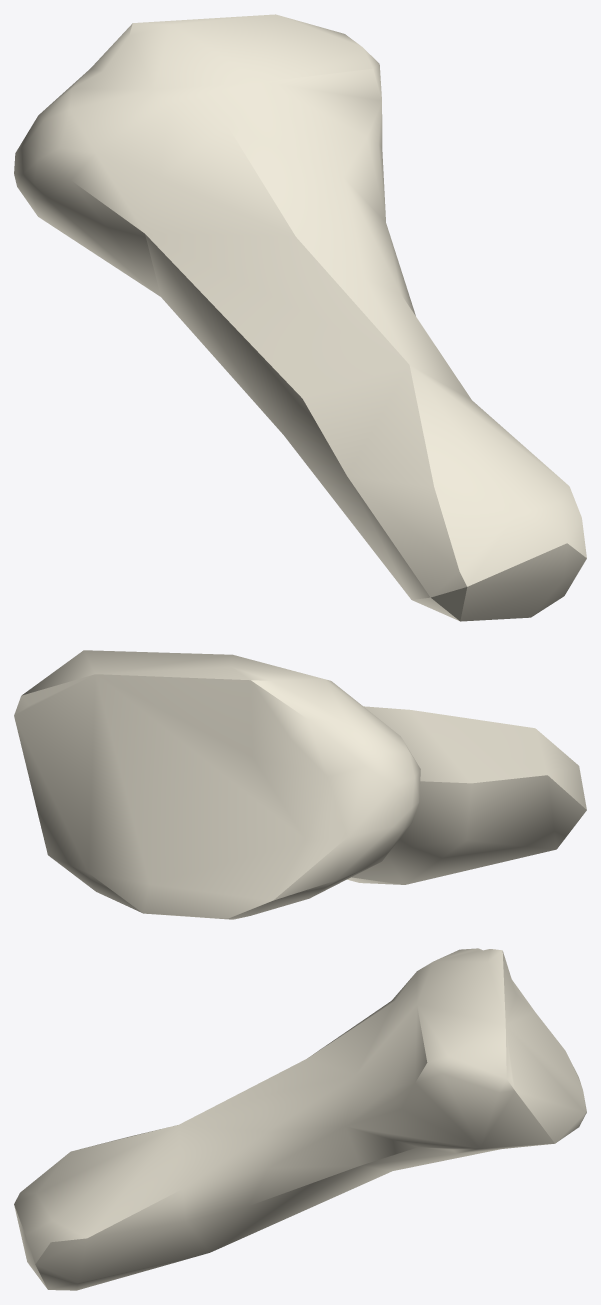
The model's file is fma23957_fj3187.glb.
3 renders of one model, top to bottom at view 1: azimuth 30°, elevation 25°; view 2: azimuth 150°, elevation 25°; view 3: azimuth 270°, elevation 25°, orthographic. The views are drawn at different scales.
Visible parts, largest first — view 1: FMA23957_FJ3187; view 2: FMA23957_FJ3187; view 3: FMA23957_FJ3187.
Part boxes in pixels (x1,y1,x2,y2): FMA23957_FJ3187: (14,14,586,621); FMA23957_FJ3187: (14,650,586,919); FMA23957_FJ3187: (14,948,586,1290).
Size of the model in its own units: 0.00835 by 0.00909 by 0.0156.
